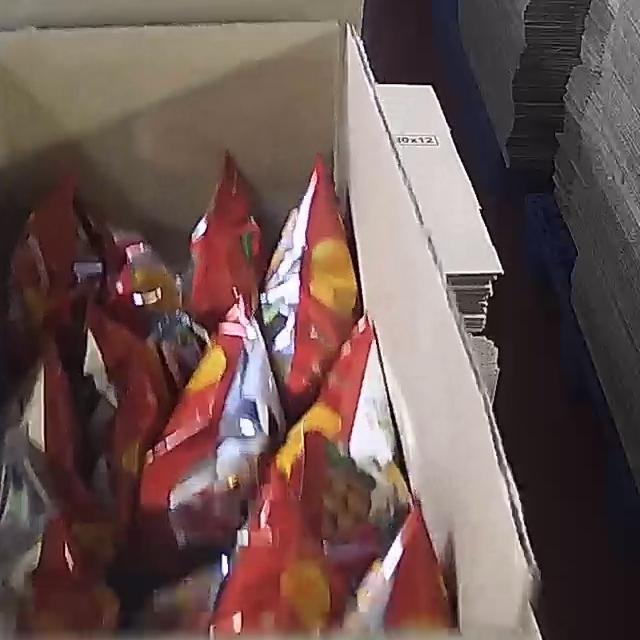masala: (0, 147, 419, 640)
